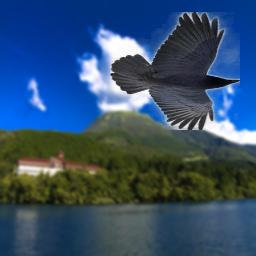Crow: (110, 12, 240, 130)
